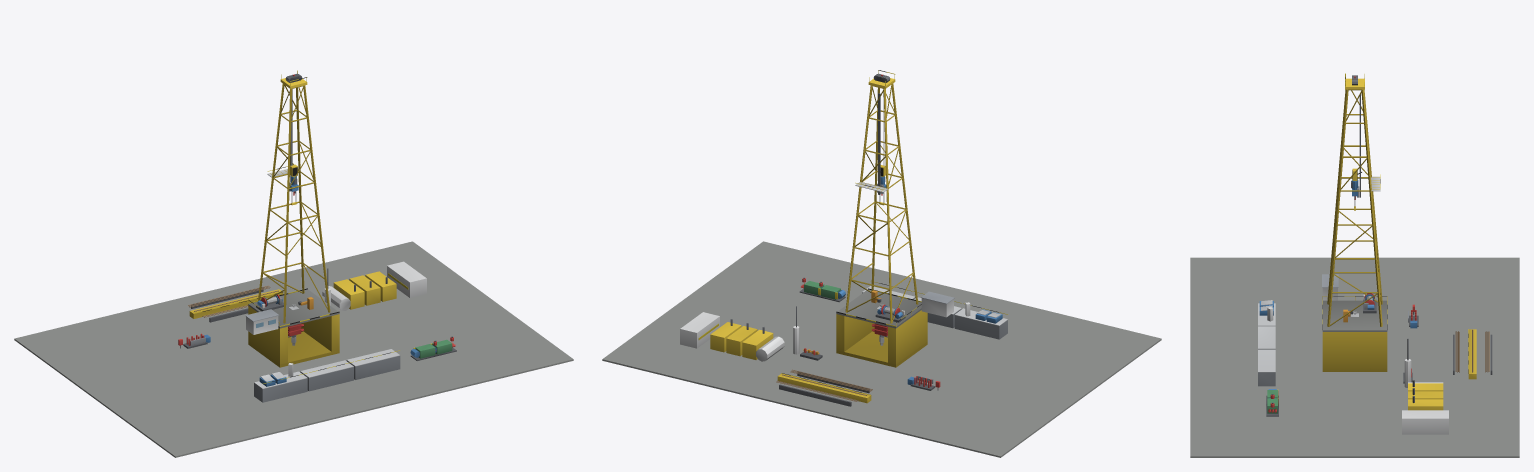
The model's file is triple_low.glb.
The picture shows the model from 3 angles, left to right: view 1: azimuth 30°, elevation 25°; view 2: azimuth 150°, elevation 25°; view 3: azimuth 270°, elevation 25°; orthographic projection. The views are drawn at different scales.
Visible parts, largest first — view 1: site__pad, mast__mast, mudtanks__tanks, mast__substructure, generators__gensets, mast__floor, generators__vfd, pipehandling__racker, pipehandling__catwalk, mast__doghouse; view 2: site__pad, mast__mast, mast__substructure, mudtanks__tanks, mast__floor, generators__gensets, pipehandling__racker, generators__vfd, pipehandling__catwalk, mast__doghouse; view 3: site__pad, mast__mast, mast__substructure, mast__floor, mudtanks__tanks, generators__vfd, generators__gensets, pipehandling__racker, pipehandling__catwalk.
Boxes of the visible parts, x1,y1,x2,y2 form: site__pad: (14, 241, 573, 457); mast__mast: (258, 83, 330, 323); mudtanks__tanks: (254, 349, 400, 402); mast__substructure: (248, 306, 339, 367); generators__gensets: (333, 271, 396, 309); mast__floor: (248, 288, 339, 328); generators__vfd: (387, 261, 426, 297); pipehandling__racker: (188, 285, 270, 322); pipehandling__catwalk: (189, 289, 283, 318); mast__doghouse: (245, 309, 279, 334); site__pad: (602, 241, 1161, 457); mast__mast: (845, 83, 918, 323); mast__substructure: (836, 310, 927, 367); mudtanks__tanks: (862, 281, 1007, 339); mast__floor: (836, 288, 921, 328); generators__gensets: (710, 319, 773, 359); pipehandling__racker: (776, 369, 872, 406); generators__vfd: (680, 312, 719, 348); pipehandling__catwalk: (777, 373, 871, 403); mast__doghouse: (921, 291, 954, 317); site__pad: (1190, 257, 1519, 457); mast__mast: (1327, 89, 1382, 326); mast__substructure: (1322, 332, 1387, 371); mast__floor: (1322, 296, 1387, 331); mudtanks__tanks: (1258, 303, 1275, 386); generators__vfd: (1402, 410, 1448, 434); generators__gensets: (1408, 380, 1443, 410); pipehandling__racker: (1453, 331, 1492, 374); pipehandling__catwalk: (1468, 329, 1476, 379).
Size of the model in its own units: 80 by 64.46 by 56.01.
